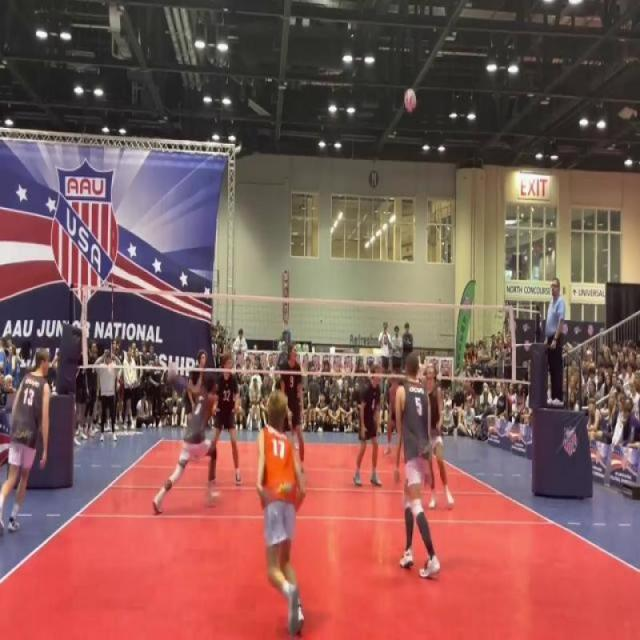volleyball: (404, 87, 417, 116)
